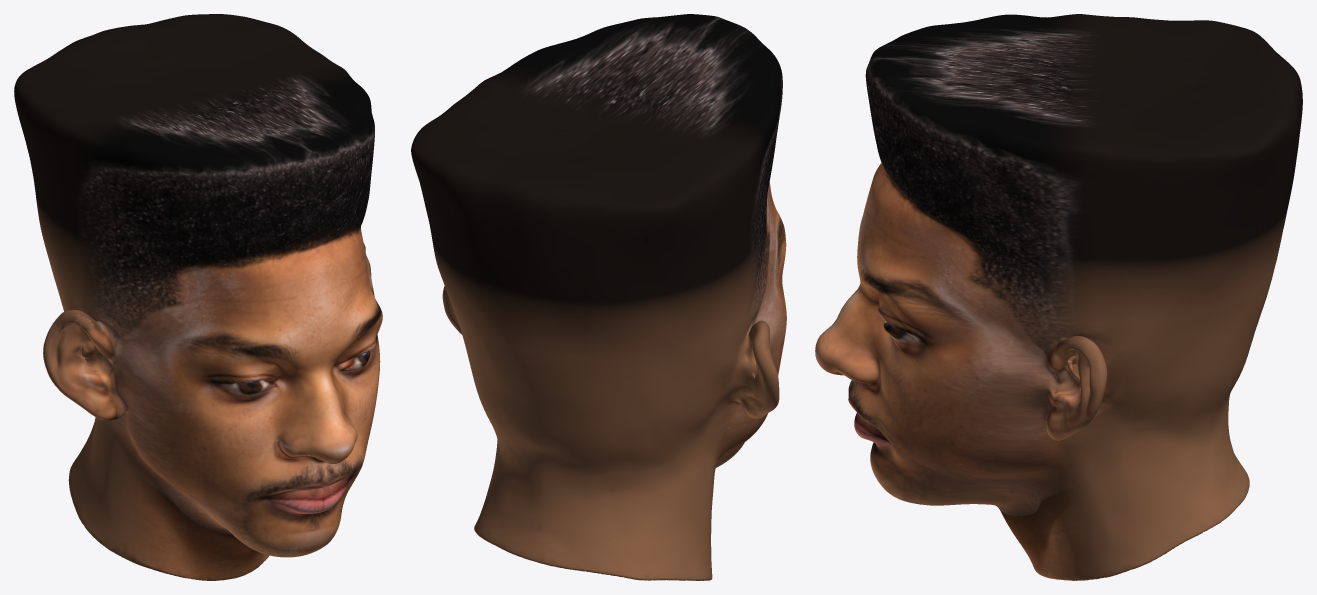
File: will-head-textured.glb
3 renders of one model, left to right at view 1: azimuth 30°, elevation 25°; view 2: azimuth 150°, elevation 25°; view 3: azimuth 270°, elevation 25°, orthographic. The views are drawn at different scales.
Visible parts, largest first — view 1: geometry_0; view 2: geometry_0; view 3: geometry_0.
Part boxes in pixels (x1=…): geometry_0: x1=14, y1=14, x2=382, y2=580; geometry_0: x1=411, y1=14, x2=786, y2=580; geometry_0: x1=815, y1=14, x2=1302, y2=580.
Size of the model in its own units: 0.2419 by 0.34 by 0.2971.
Materials: 1 (1 with a texture image).
